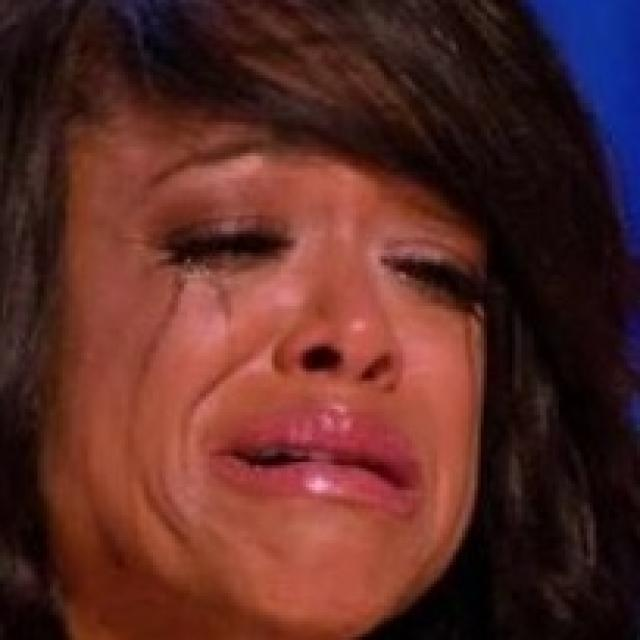Depress: (42, 90, 495, 633)
